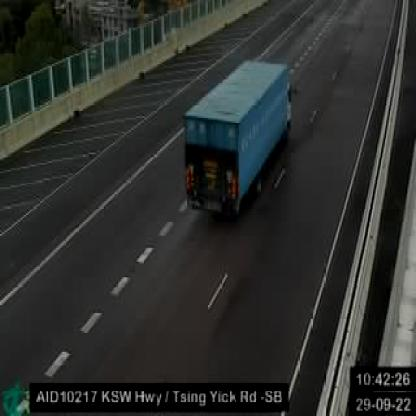Truck: (185, 61, 299, 227)
